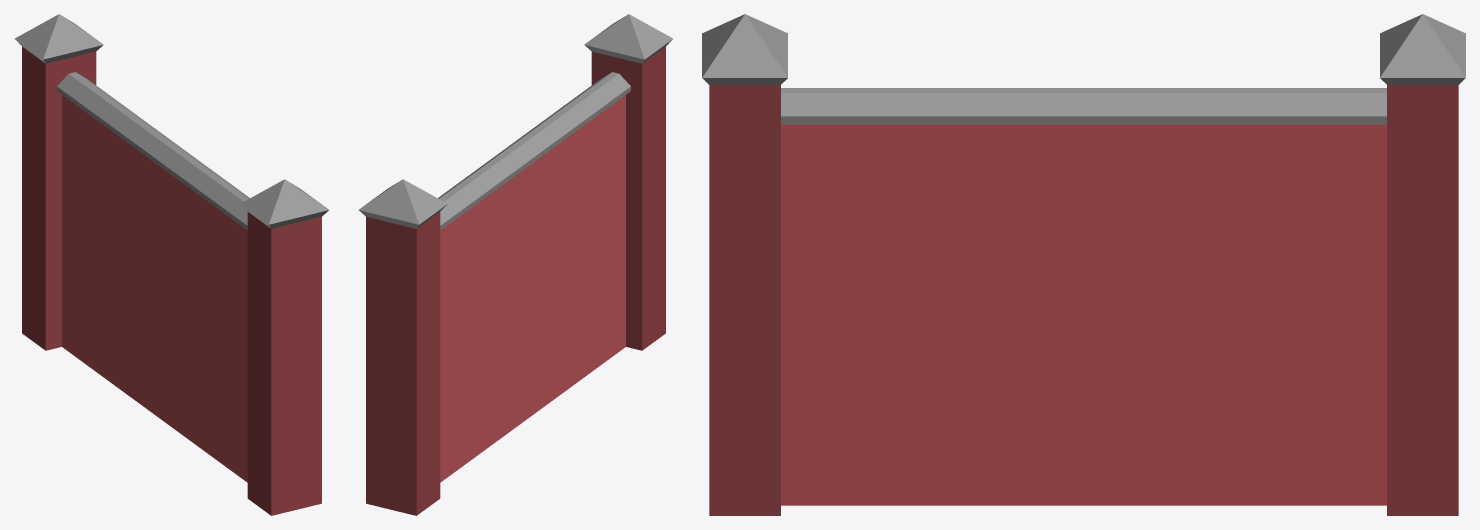
Rendered from BrickWall2m.fbx.
The picture shows the model from 3 angles, left to right: view 1: azimuth 30°, elevation 25°; view 2: azimuth 150°, elevation 25°; view 3: azimuth 270°, elevation 25°; orthographic projection. The views are drawn at different scales.
Parts seen in each view (by area): view 1: BrickWall; view 2: BrickWall; view 3: BrickWall.
Part boxes in pixels (x1=…): BrickWall: x1=14, y1=14, x2=328, y2=515; BrickWall: x1=359, y1=14, x2=673, y2=515; BrickWall: x1=702, y1=14, x2=1465, y2=515.
Bounding box in the file's own units: 2.26 × 0.3119 × 1.58.
